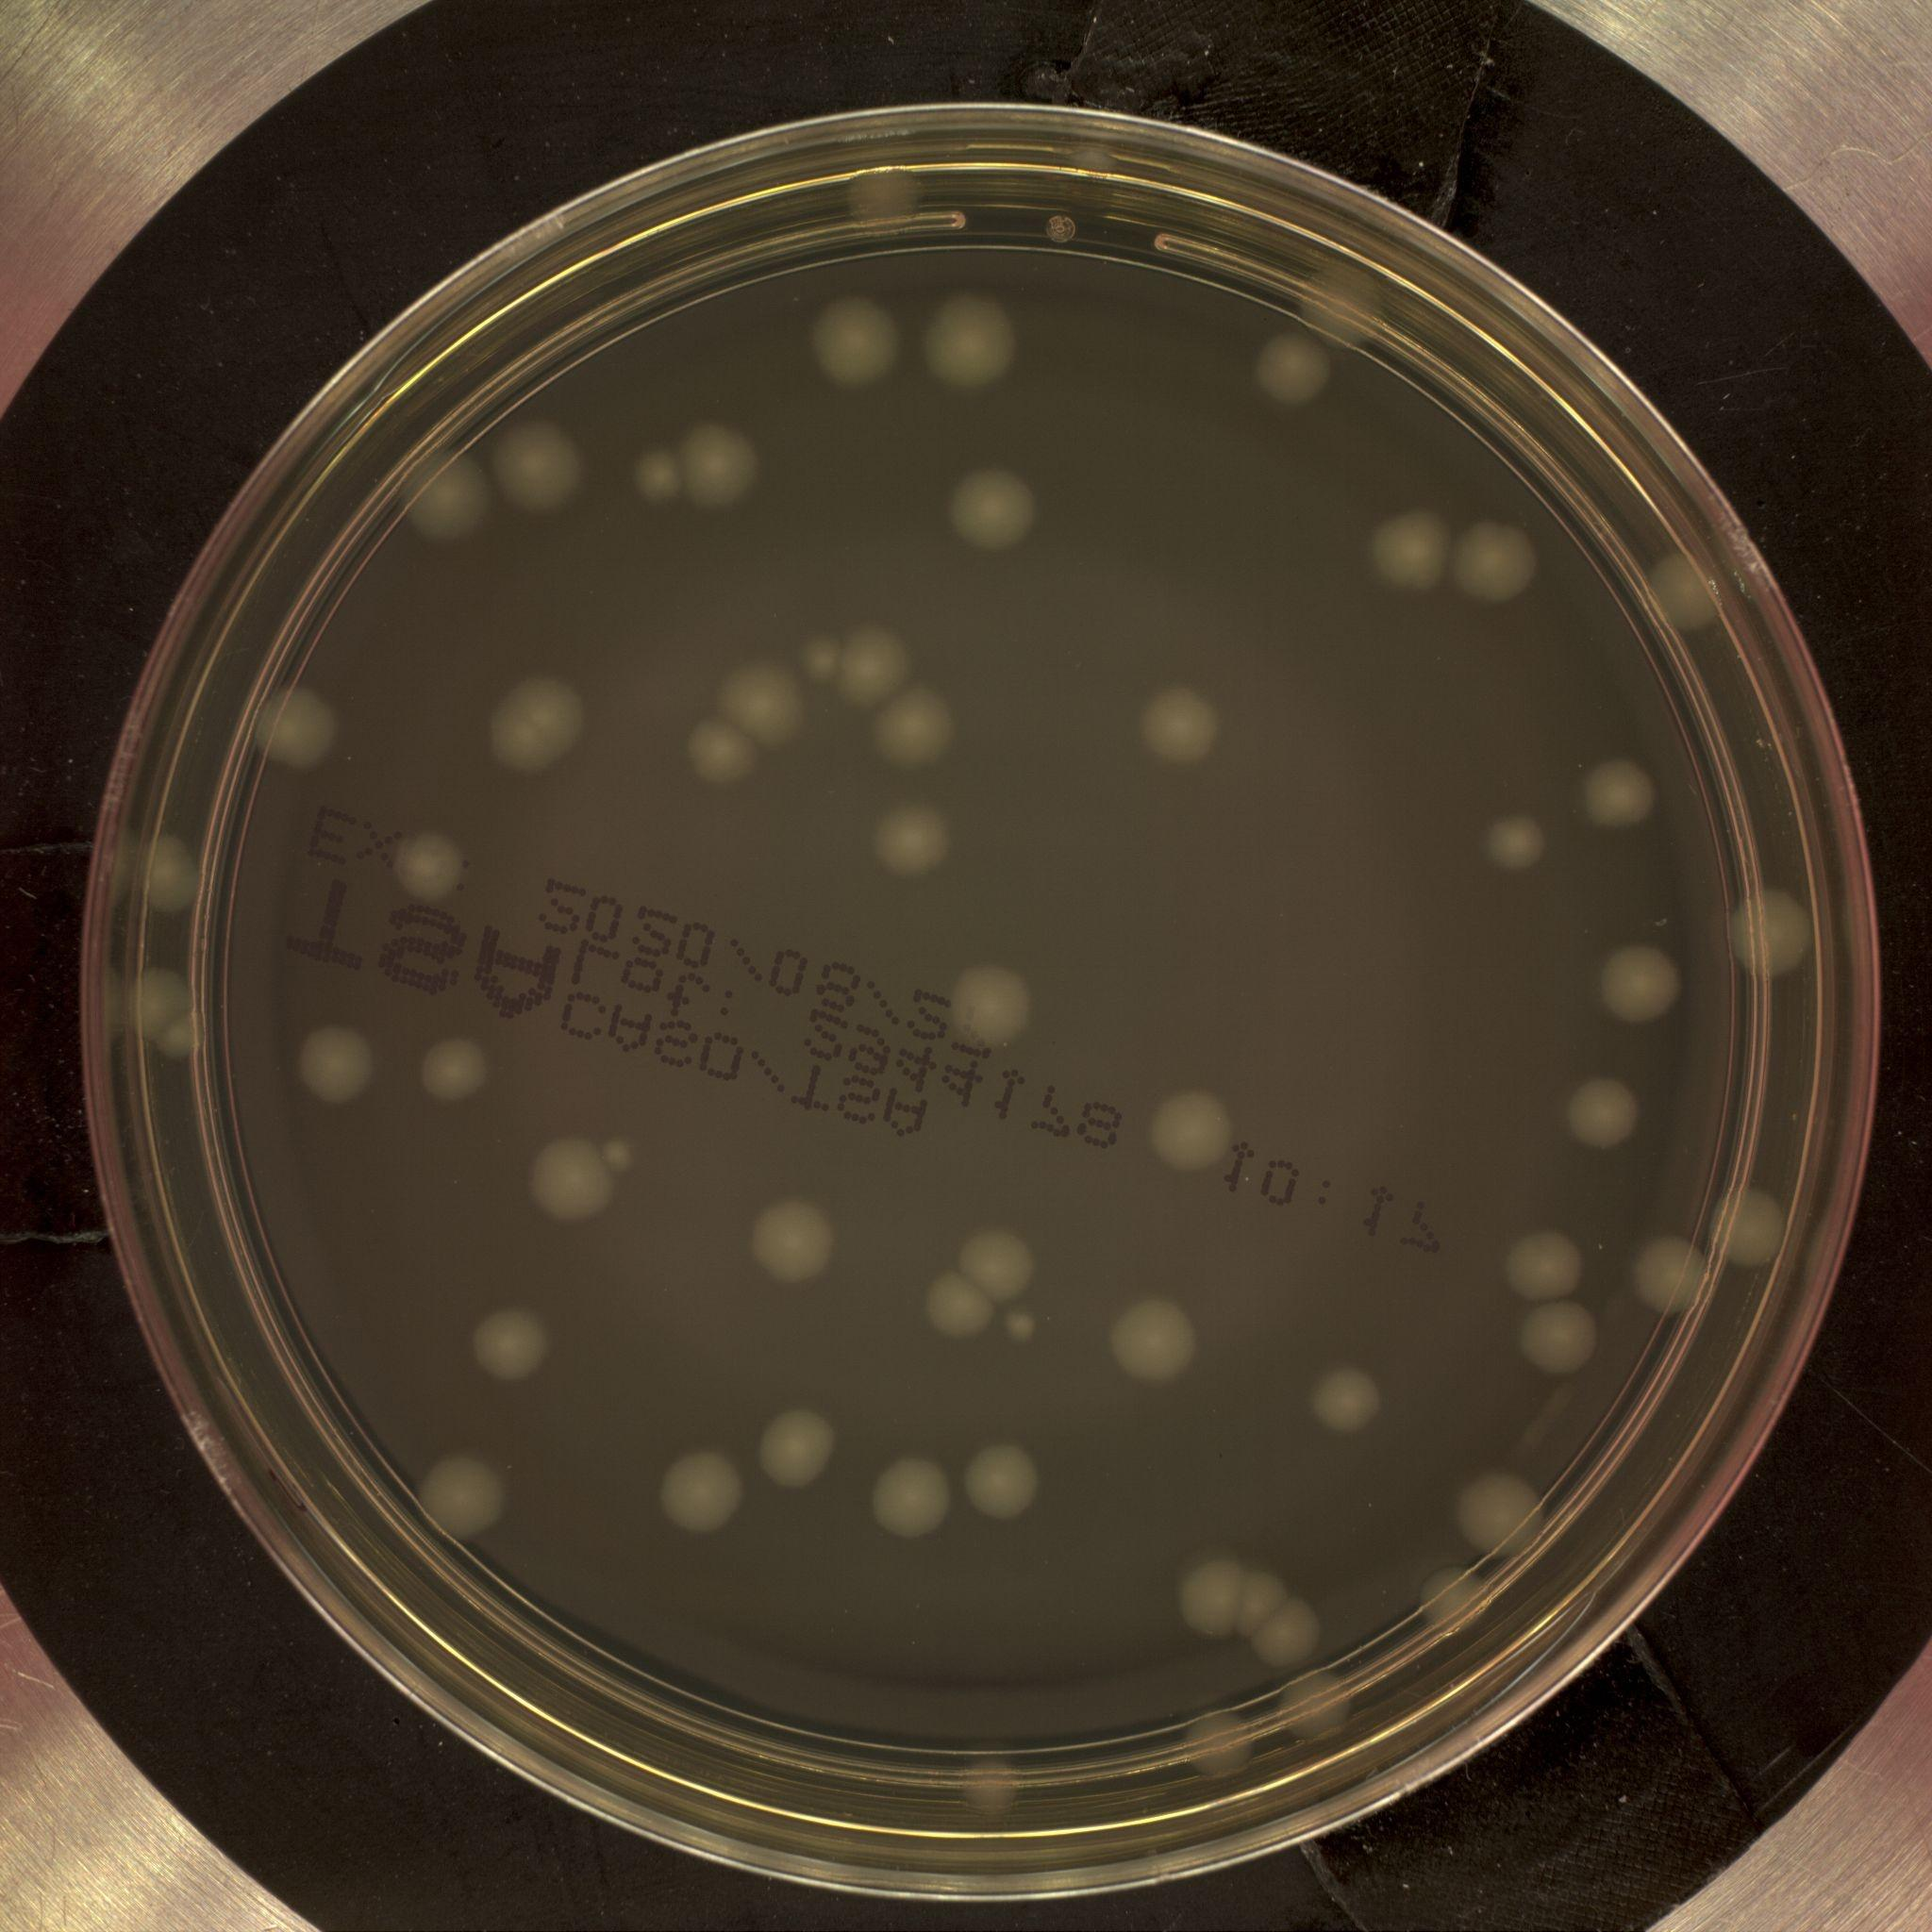e. coli: (127, 964, 218, 1076), (412, 1445, 510, 1545), (925, 295, 1023, 389), (1729, 886, 1817, 985), (249, 685, 350, 771), (494, 419, 586, 511), (398, 453, 492, 543), (492, 679, 582, 773), (945, 964, 1035, 1054), (531, 1134, 616, 1224), (1302, 262, 1385, 354), (954, 467, 1040, 552), (1145, 1088, 1233, 1171), (809, 297, 897, 380), (1706, 1185, 1790, 1270), (750, 1200, 835, 1284), (1458, 1470, 1541, 1557), (1113, 1297, 1196, 1382), (1453, 522, 1536, 607), (678, 423, 757, 511), (757, 1412, 842, 1493), (1371, 506, 1451, 593), (662, 1451, 740, 1536), (720, 663, 800, 745), (295, 1026, 373, 1106), (872, 1456, 950, 1536), (966, 1442, 1040, 1525), (1645, 554, 1723, 632), (837, 625, 918, 699), (391, 824, 465, 906), (127, 828, 202, 909), (1307, 1361, 1384, 1438), (959, 1226, 1039, 1300), (881, 692, 955, 771), (1603, 947, 1677, 1021), (1260, 331, 1332, 407), (472, 1309, 550, 1380), (847, 166, 925, 235), (1253, 1596, 1322, 1672), (870, 805, 947, 874), (1638, 1237, 1706, 1315), (927, 1270, 998, 1343), (1522, 1300, 1596, 1369), (1177, 1562, 1244, 1638), (1507, 1224, 1576, 1297), (1419, 1564, 1488, 1637), (1283, 1672, 1357, 1739), (1146, 690, 1221, 757), (1583, 761, 1652, 828), (419, 1039, 492, 1102), (690, 718, 757, 786), (1571, 1077, 1633, 1150), (1226, 1568, 1288, 1640), (1184, 1714, 1253, 1778), (1488, 812, 1548, 876), (959, 1757, 1016, 1815), (635, 448, 683, 504), (798, 633, 846, 681), (1001, 1304, 1042, 1348)
